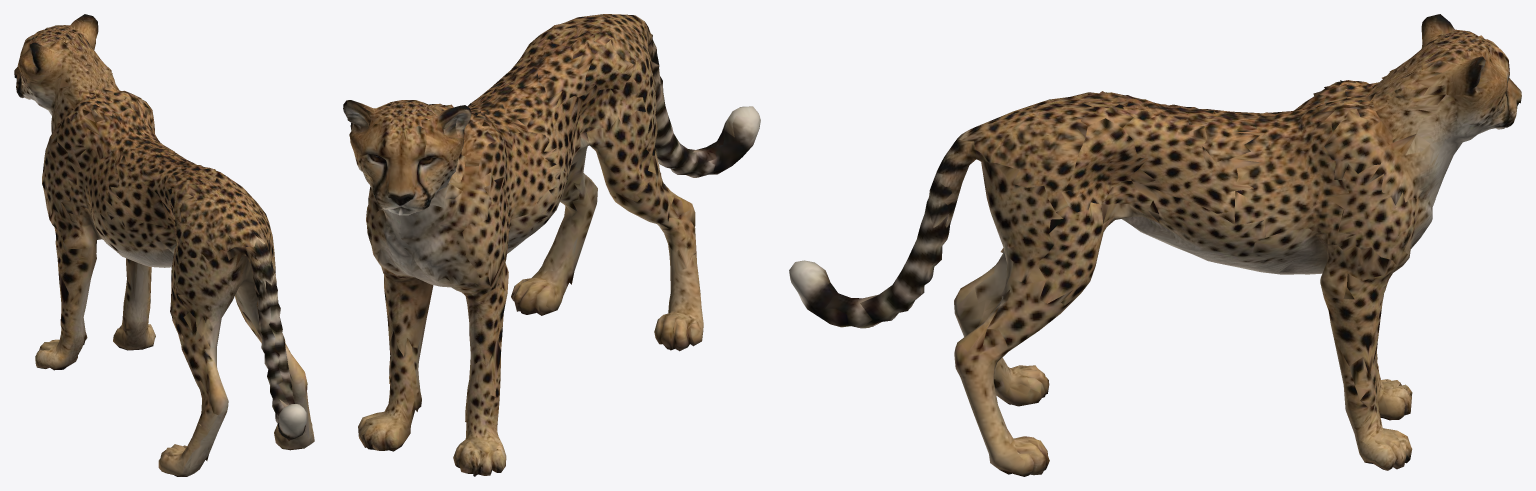
The model's file is ghepardo_lod.gltf.
The picture shows the model from 3 angles, left to right: view 1: azimuth 30°, elevation 25°; view 2: azimuth 150°, elevation 25°; view 3: azimuth 270°, elevation 25°; orthographic projection. The views are drawn at different scales.
Parts seen in each view (by area): view 1: animal; view 2: animal; view 3: animal.
Part boxes in pixels (x1,y1,x2,y2): animal: [14, 14, 314, 476]; animal: [343, 14, 760, 476]; animal: [789, 14, 1521, 476].
Size of the model in its own units: 0.3822 by 0.7459 by 1.25.
Materials: 1 (1 with a texture image).
